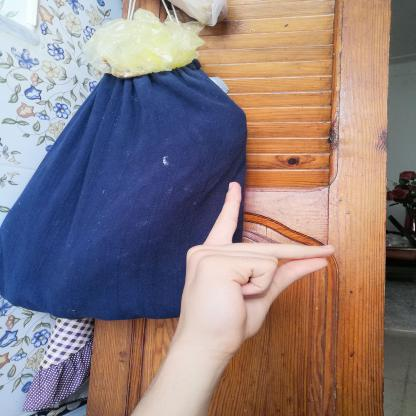TAA: (164, 173, 344, 369)
